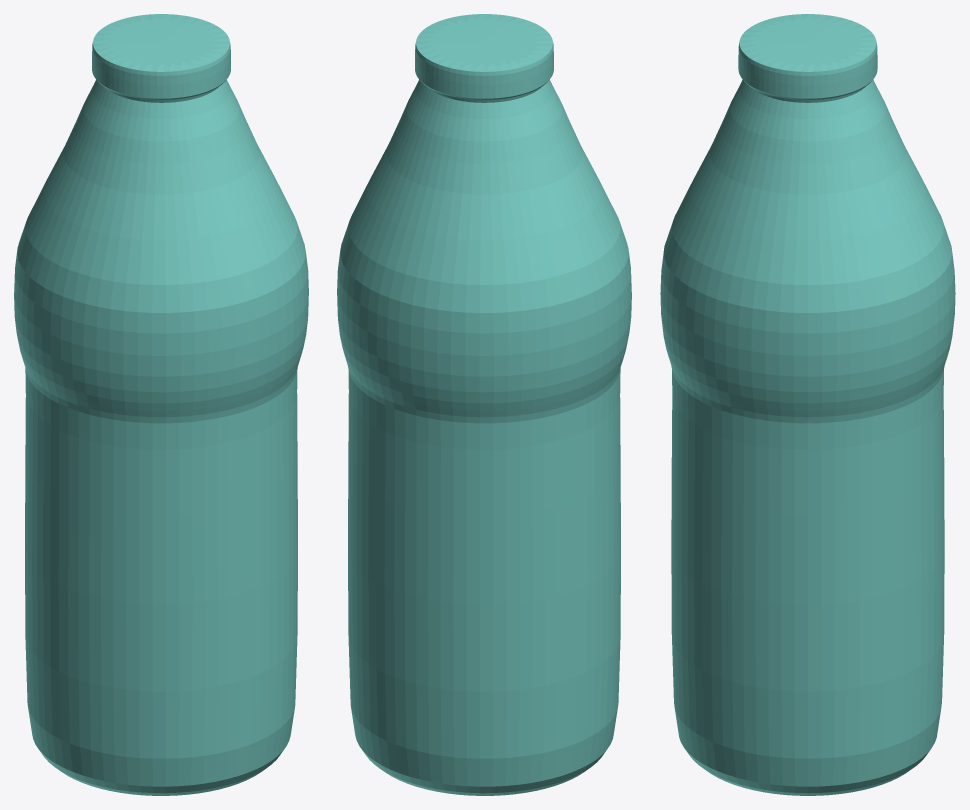
File: Waterbottle.fbx
The picture shows the model from 3 angles, left to right: view 1: azimuth 30°, elevation 25°; view 2: azimuth 150°, elevation 25°; view 3: azimuth 270°, elevation 25°; orthographic projection.
Visible parts, largest first — view 1: Cylinder; view 2: Cylinder; view 3: Cylinder.
Boxes of the visible parts, <box> form: Cylinder: <box>14,14,308,795</box>; Cylinder: <box>337,14,631,795</box>; Cylinder: <box>660,14,955,795</box>.
Bounding box in the file's own units: 101 × 266 × 101.
